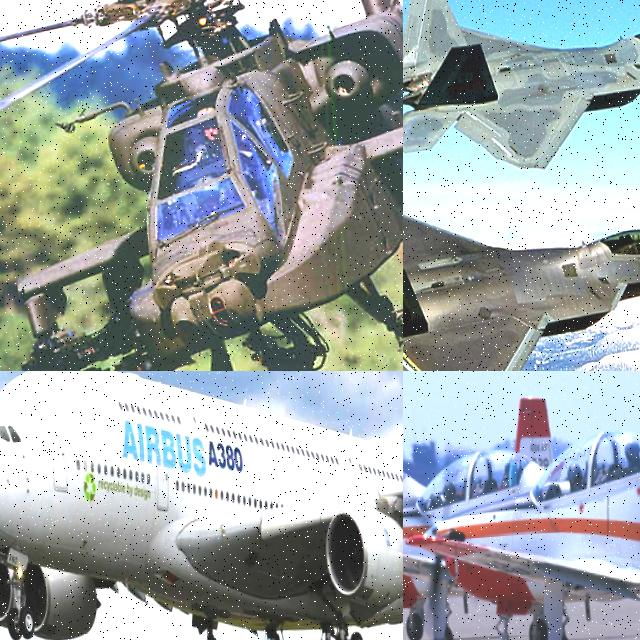A380: (0, 371, 403, 640)
Apache: (0, 0, 403, 371)
F22: (403, 141, 640, 371), (403, 0, 640, 192)
KT-1: (403, 385, 640, 640), (420, 371, 640, 640)
